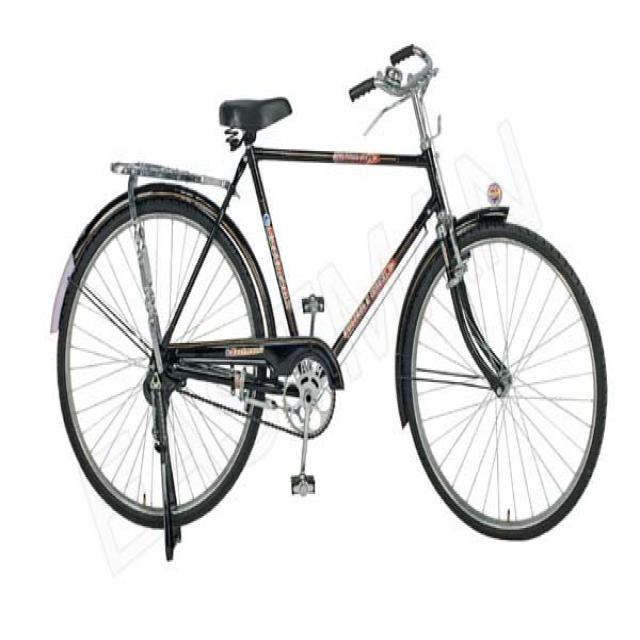bicycle: (58, 52, 604, 556)
